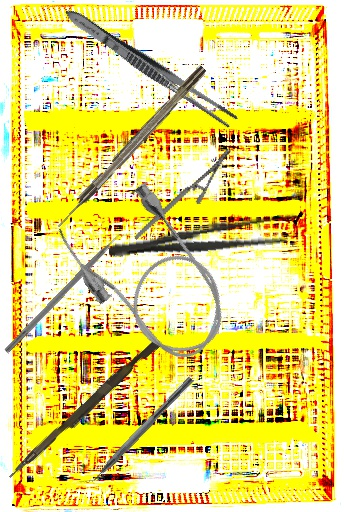Cannula: (49, 170, 248, 384)
Chopper: (3, 224, 136, 361), (76, 368, 195, 494)
Dressing Forceps: (60, 3, 242, 132), (106, 209, 302, 268)
Hook Surgical: (53, 64, 209, 231)
Needle Holder: (116, 147, 249, 240)
Pusher: (7, 335, 161, 485)
